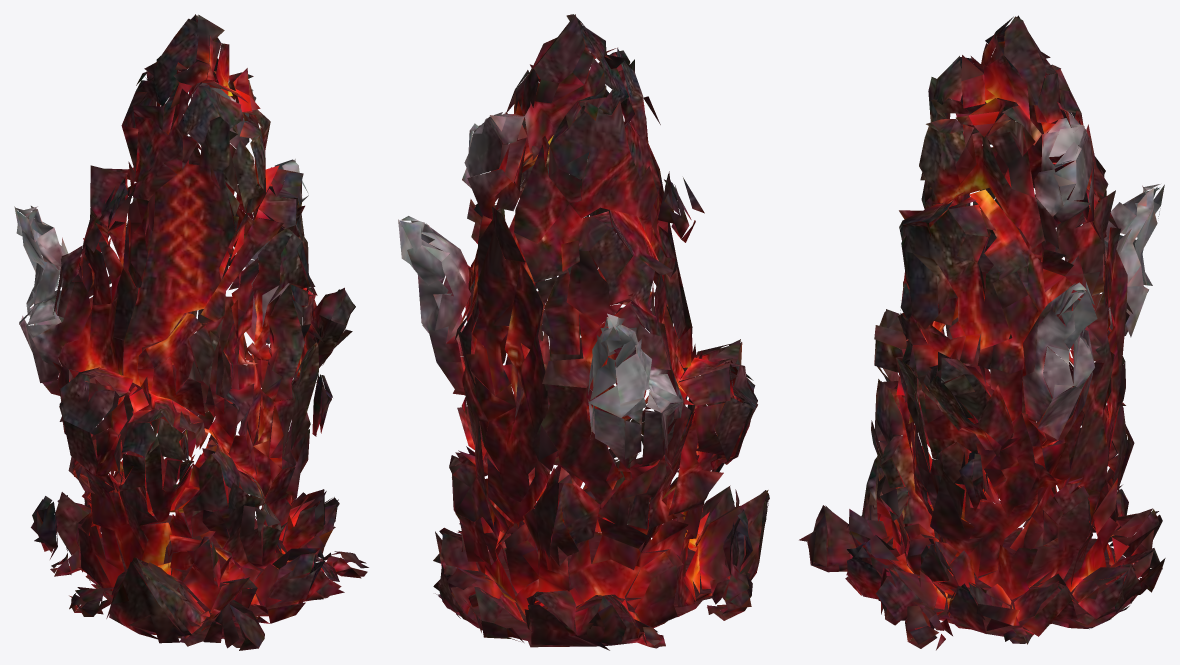
The model's file is metin_lod1.glb.
The picture shows the model from 3 angles, left to right: view 1: azimuth 30°, elevation 25°; view 2: azimuth 150°, elevation 25°; view 3: azimuth 270°, elevation 25°; orthographic projection. The views are drawn at different scales.
Visible parts, largest first — view 1: metin; view 2: metin; view 3: metin.
Part boxes in pixels (x1=…): metin: x1=14, y1=14, x2=368, y2=650; metin: x1=398, y1=14, x2=769, y2=650; metin: x1=799, y1=15, x2=1165, y2=650.
Size of the model in its own units: 1.97 by 3.53 by 2.04.
1 material, 1 textured.
